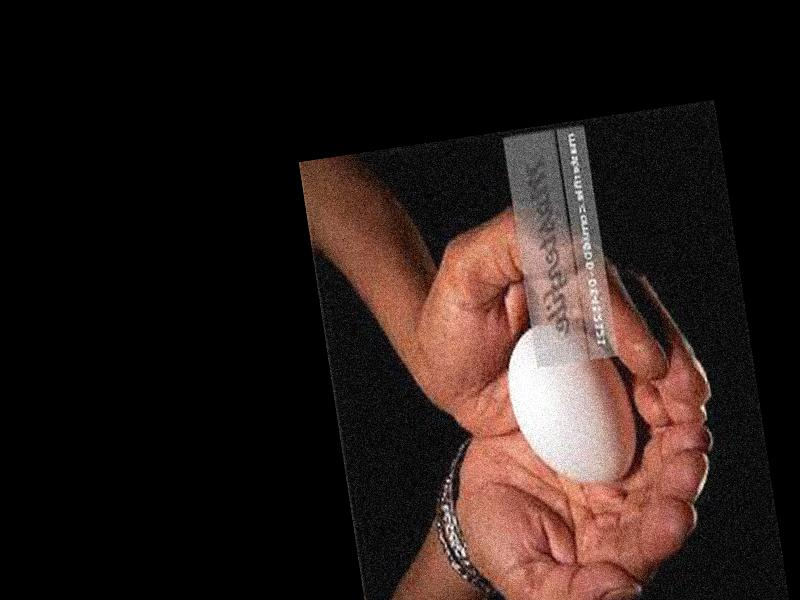Eggs: (500, 313, 644, 496)
